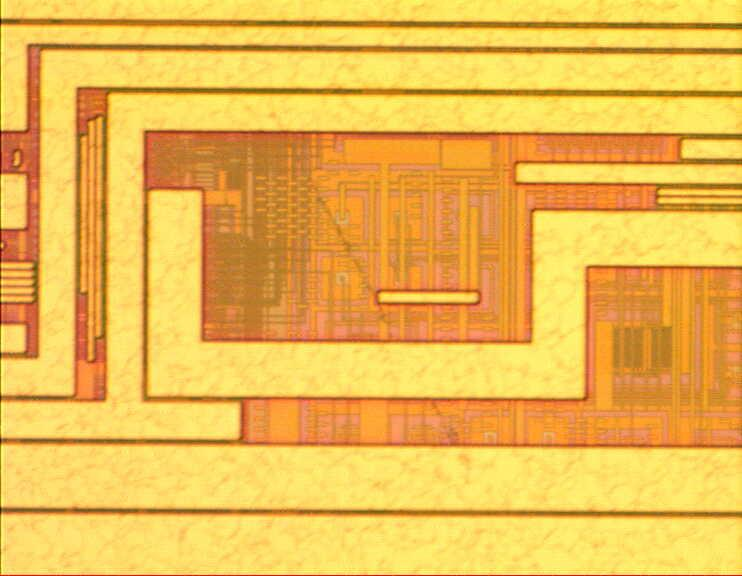SCRATCH: (194, 11, 504, 523)
